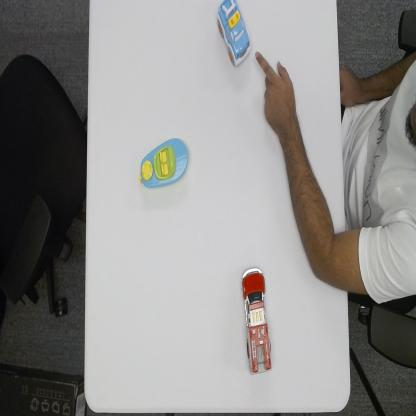Arm: (281, 121, 346, 290)
Boat: (138, 135, 189, 190)
Car: (215, 0, 252, 66)
Firetruck: (240, 266, 272, 376)
Hand: (255, 41, 294, 132)
